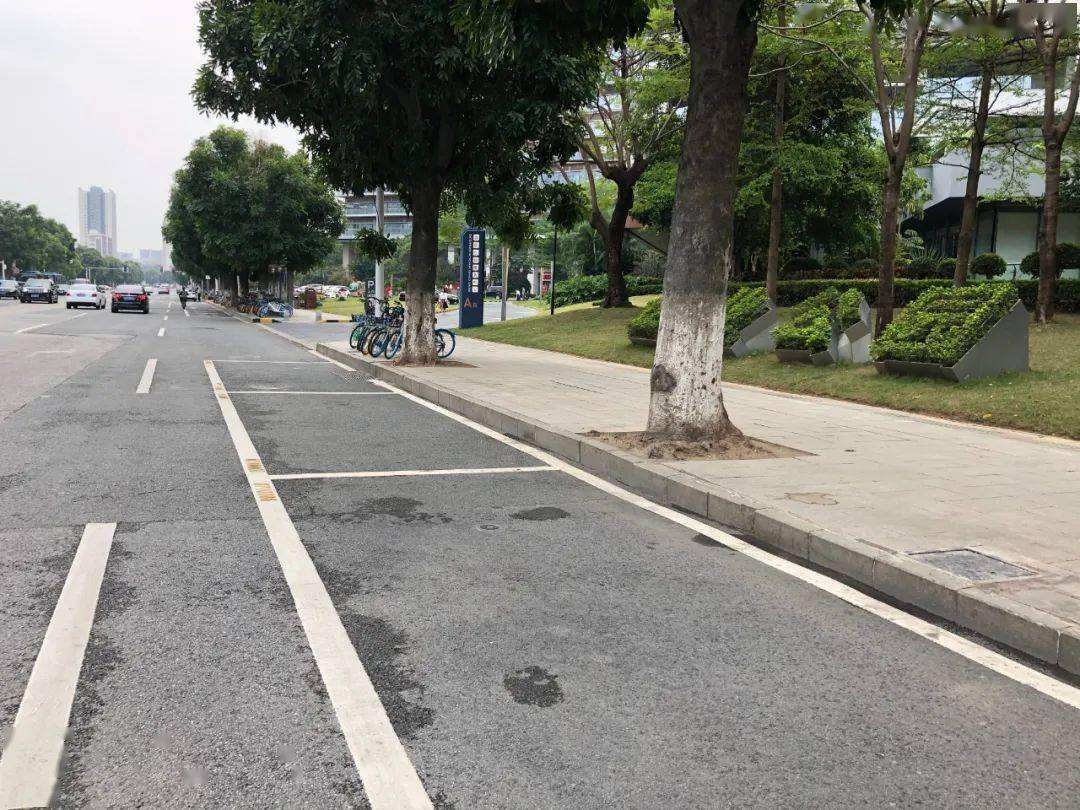slot_nocar: (226, 451, 1080, 810), (210, 380, 575, 496), (194, 340, 405, 407)
